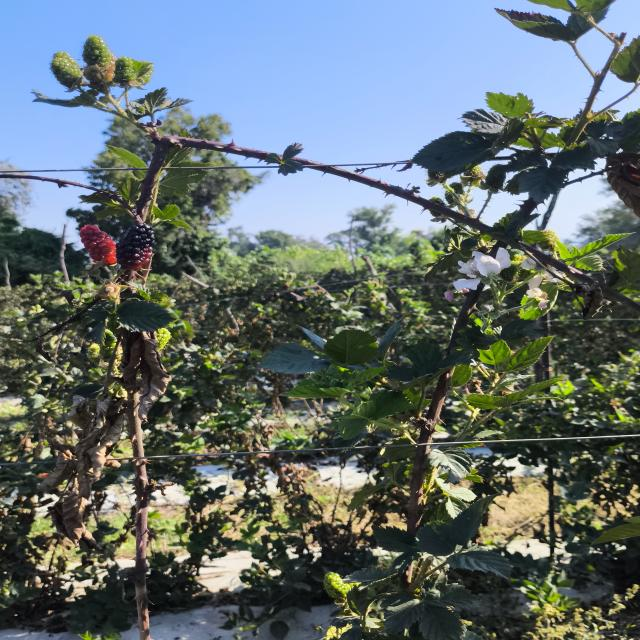flor: (473, 248, 510, 276)
marron: (116, 222, 154, 270)
naranja: (80, 225, 116, 264)
